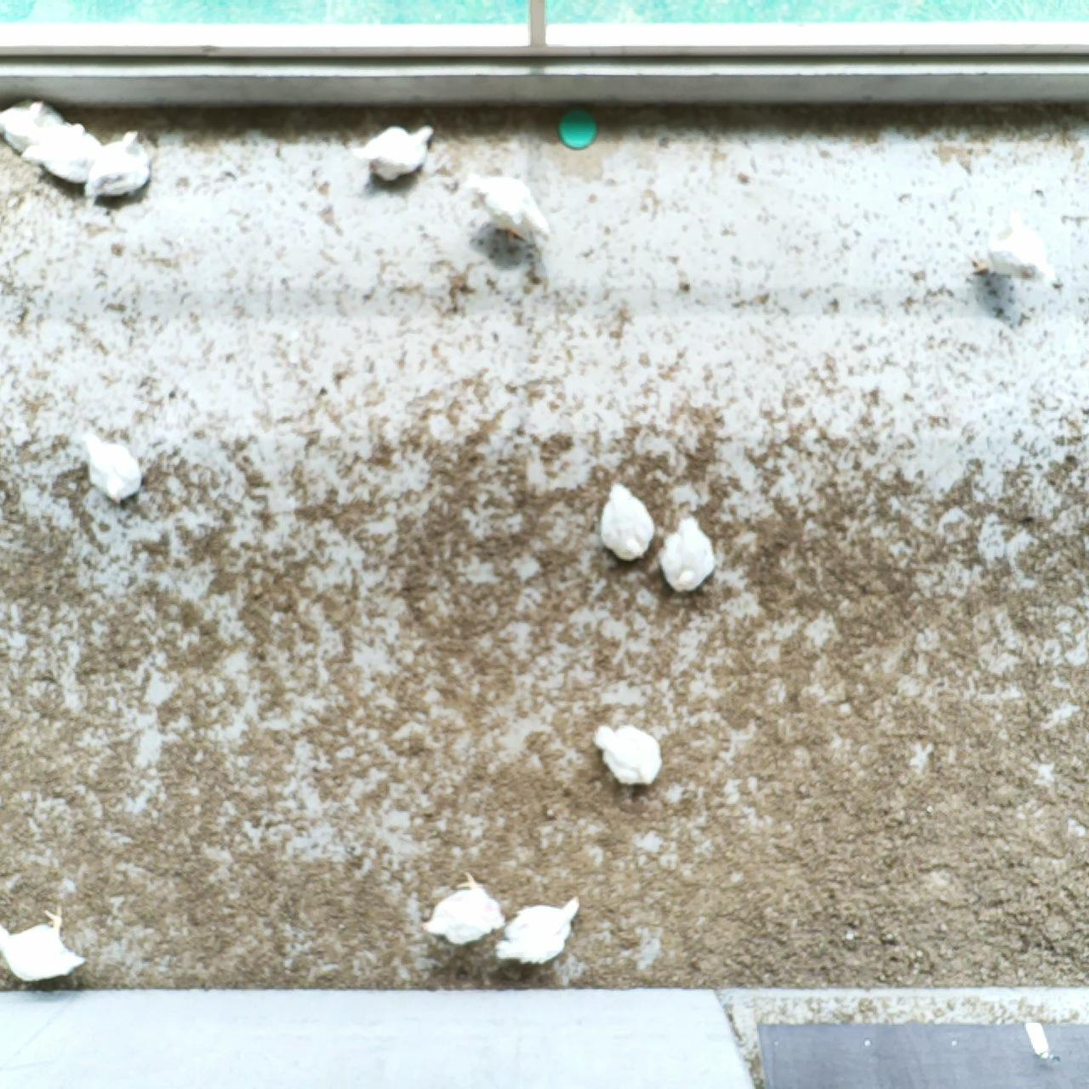chicken: (0, 901, 88, 984), (463, 168, 553, 248), (418, 869, 507, 949), (967, 205, 1054, 284), (495, 893, 582, 967), (82, 127, 155, 207), (355, 122, 439, 187), (20, 119, 105, 183), (596, 478, 657, 566), (594, 721, 665, 790), (657, 513, 718, 593), (80, 429, 144, 503), (0, 96, 66, 156)
